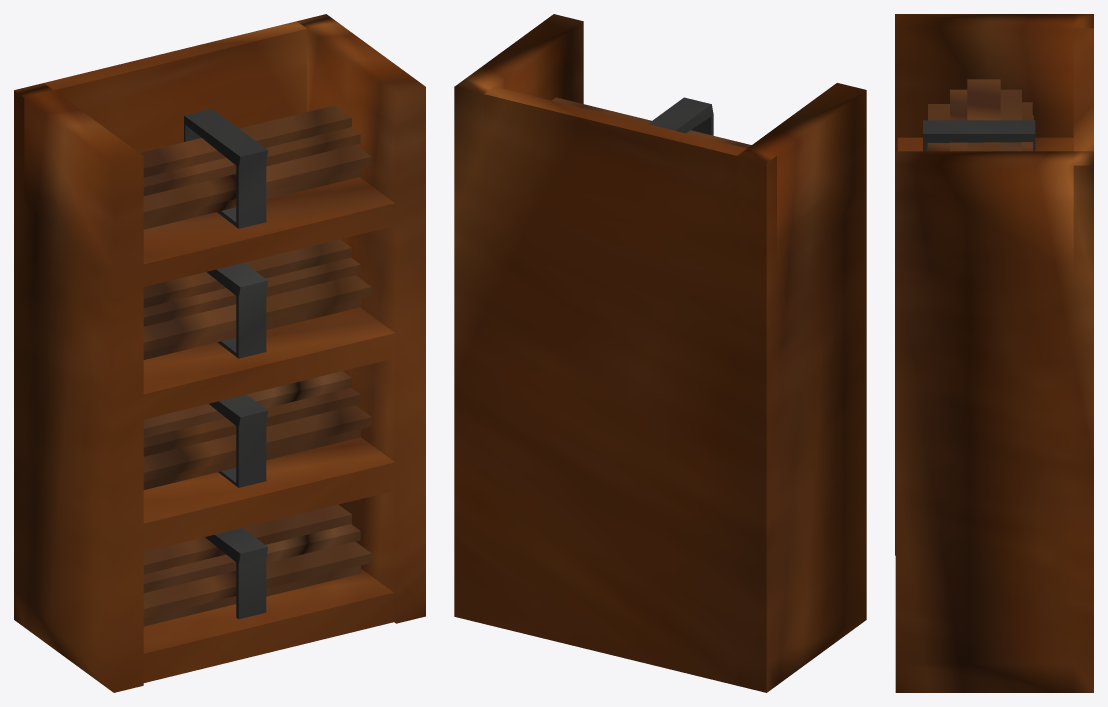
The model's file is odun dolabı.fbx.
The picture shows the model from 3 angles, left to right: view 1: azimuth 30°, elevation 25°; view 2: azimuth 150°, elevation 25°; view 3: azimuth 270°, elevation 25°; orthographic projection.
Parts seen in each view (by area): view 1: Cube.003; view 2: Cube.003; view 3: Cube.003.
Boxes of the visible parts, x1,y1,x2,y2 form: Cube.003: (14,14,425,692); Cube.003: (454,14,866,692); Cube.003: (895,14,1093,692).
Bounding box in the file's own units: 49.39 × 80 × 27.35.
1 material, 1 textured.
